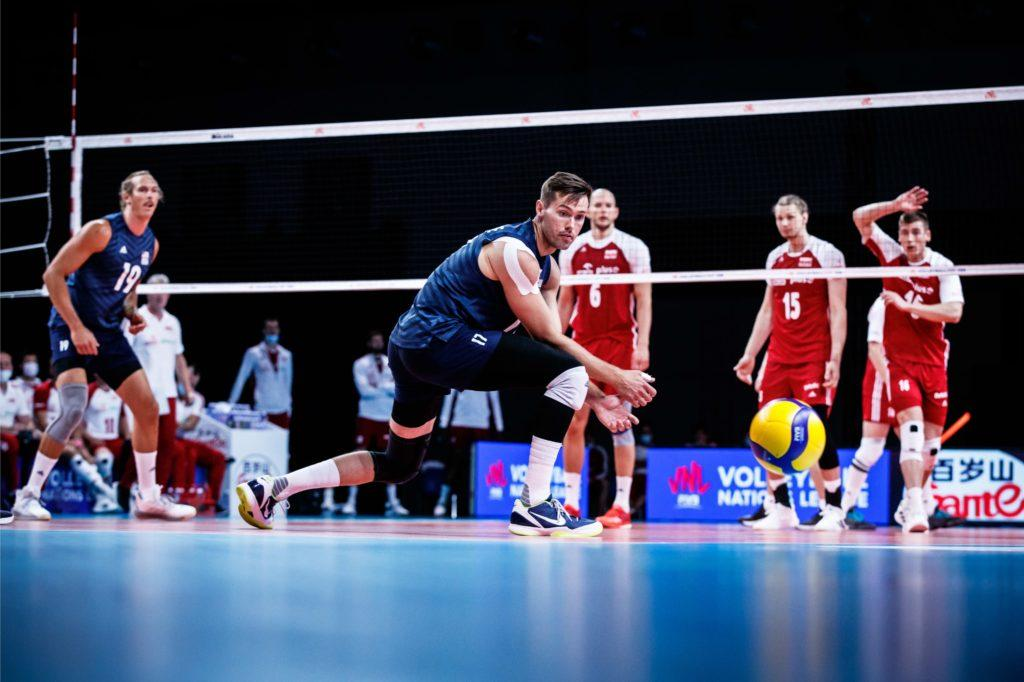ballon_volley: (748, 396, 826, 477)
